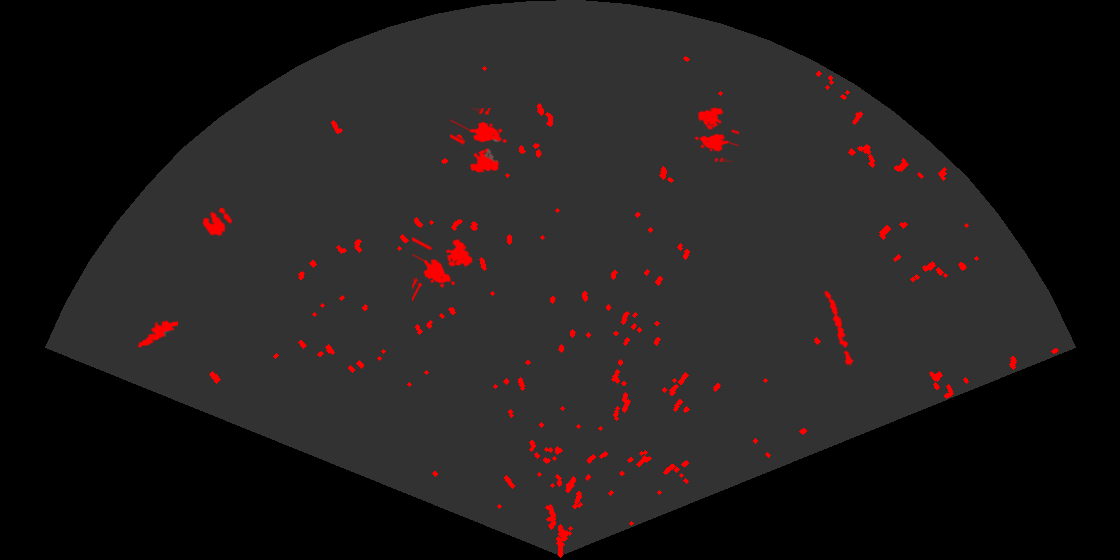ball: (201, 206, 234, 238)
cage: (412, 235, 474, 303), (450, 108, 509, 174), (693, 105, 739, 162)
chain: (823, 289, 855, 367)
frogman: (134, 319, 178, 349)
